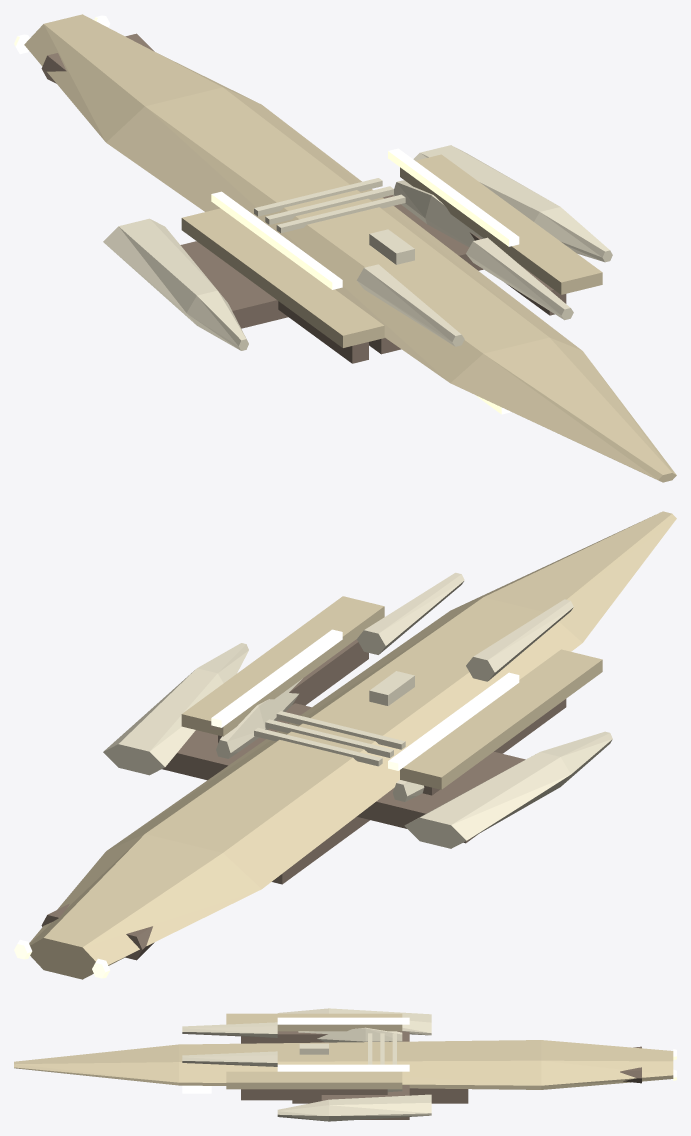
3 views of the same model, one above another, from view 1: azimuth 30°, elevation 25°; view 2: azimuth 150°, elevation 25°; view 3: azimuth 270°, elevation 25° (orthographic). The views are drawn at different scales.
Bounding box in the file's own units: 6.81 × 1.76 × 18.64.
